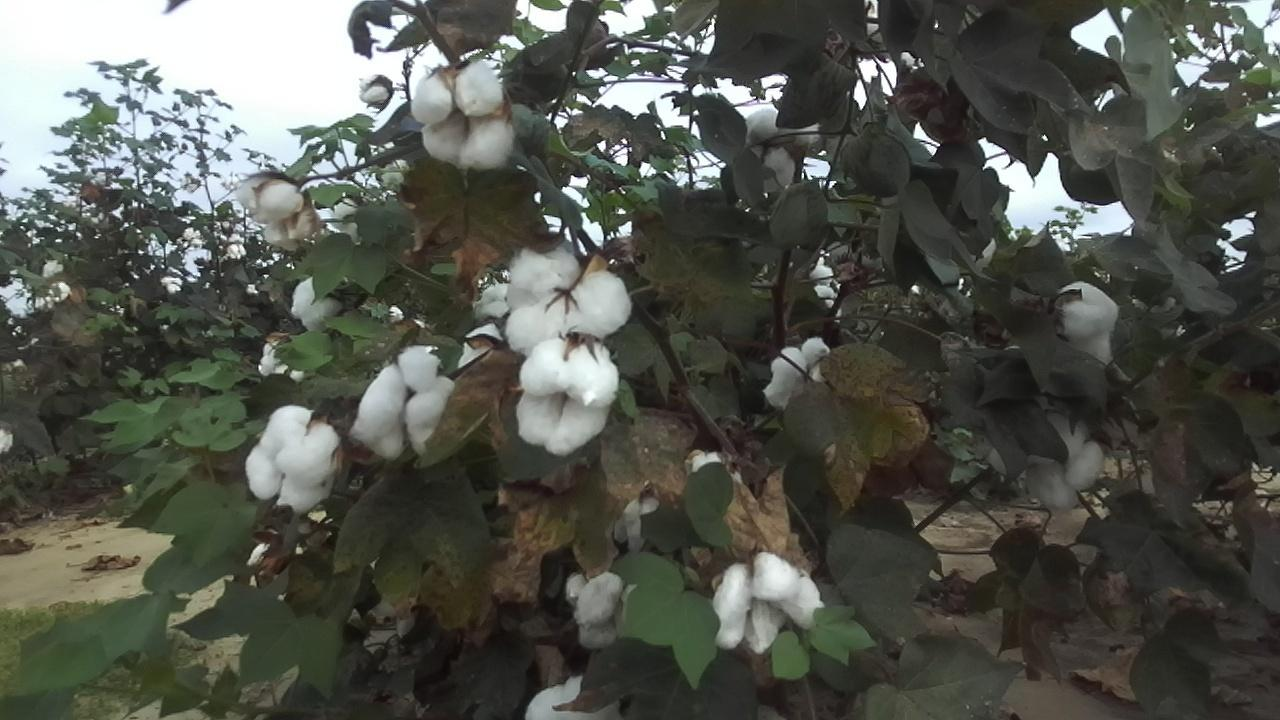cotton_ready: (507, 245, 632, 353), (516, 336, 620, 455), (352, 347, 460, 461), (714, 554, 823, 655), (246, 406, 342, 515), (413, 64, 512, 169), (1030, 413, 1106, 518), (232, 172, 323, 249), (568, 572, 643, 651), (1055, 280, 1121, 366), (525, 674, 627, 720), (291, 273, 359, 331)
